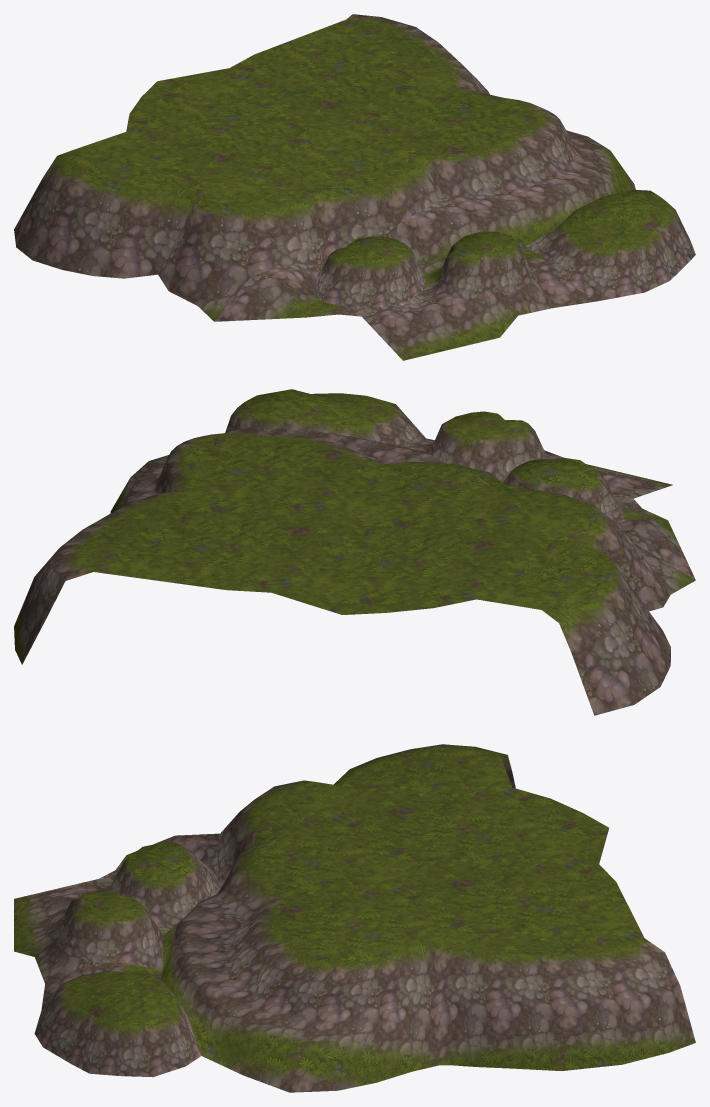
Rendered from Town004_NewTerrain_03.FBX.
3 views of the same model, one above another, from view 1: azimuth 30°, elevation 25°; view 2: azimuth 150°, elevation 25°; view 3: azimuth 270°, elevation 25° (orthographic). The views are drawn at different scales.
Visible parts, largest first — view 1: Town004_NewTerrain_03; view 2: Town004_NewTerrain_03; view 3: Town004_NewTerrain_03.
Part boxes in pixels (x1,y1,x2,y2): Town004_NewTerrain_03: (14, 14, 695, 360); Town004_NewTerrain_03: (14, 389, 695, 715); Town004_NewTerrain_03: (14, 744, 695, 1092).
Size of the model in its own units: 4546 by 633 by 4544.
2 materials, 2 textured.
